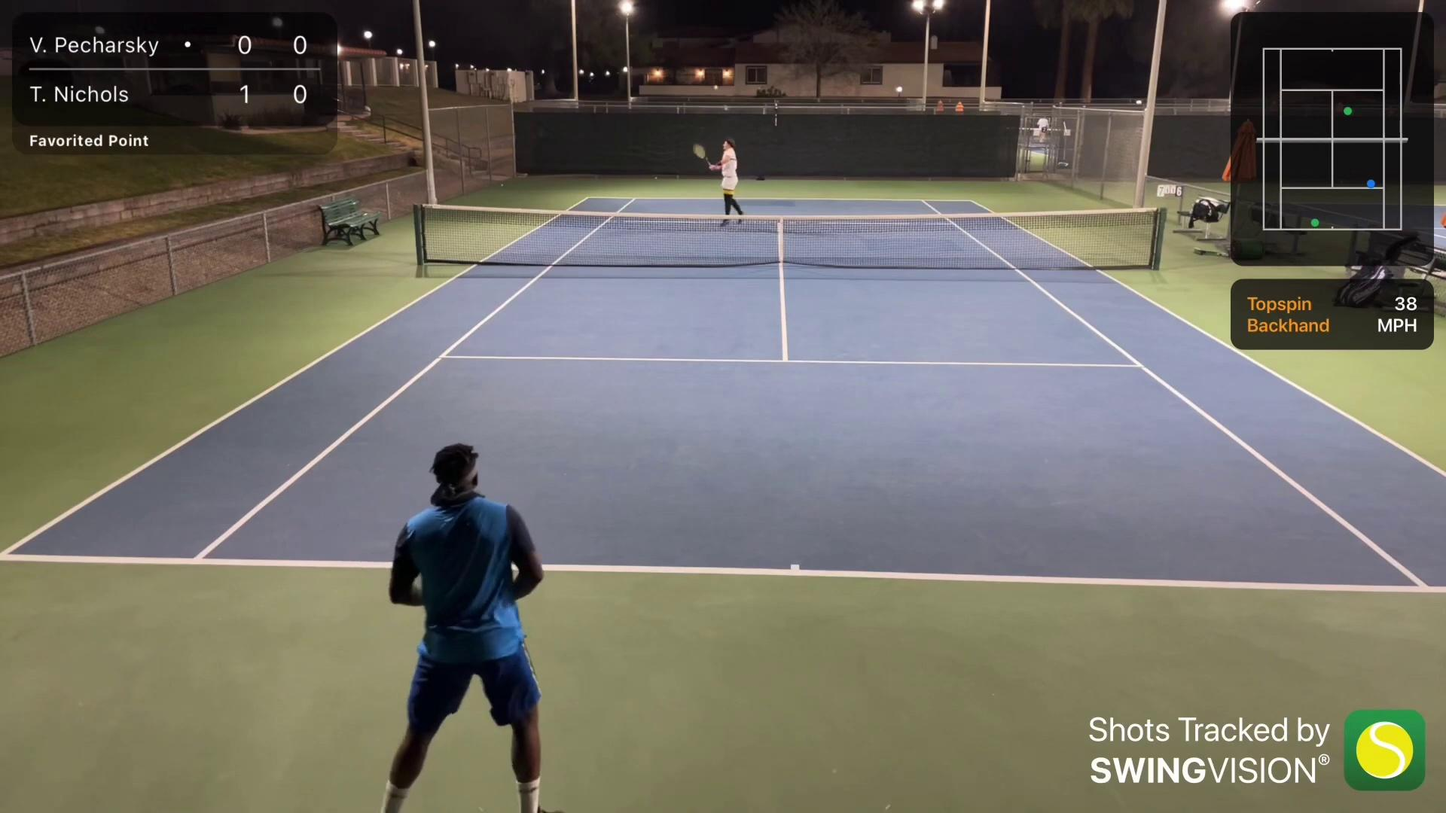ball: (711, 82, 720, 91)
